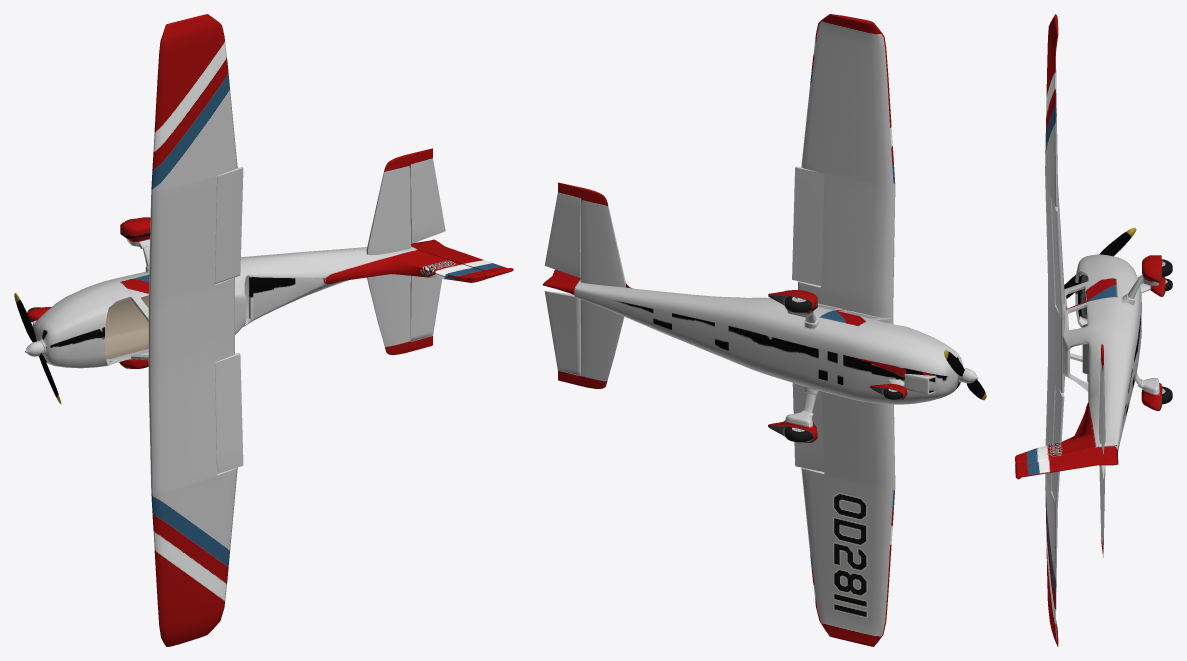
File: airoplan.fbx
3 views of the same model, side by side, from view 1: azimuth 30°, elevation 25°; view 2: azimuth 150°, elevation 25°; view 3: azimuth 270°, elevation 25° (orthographic).
Visible parts, largest first — view 1: 11804_Airplane_body; view 2: 11804_Airplane_body; view 3: 11804_Airplane_body.
Part boxes in pixels (x1=…): 11804_Airplane_body: x1=14, y1=14, x2=513, y2=646; 11804_Airplane_body: x1=542, y1=14, x2=986, y2=646; 11804_Airplane_body: x1=1015, y1=14, x2=1172, y2=646.
Size of the model in its own units: 21 by 27.78 by 6.46.
